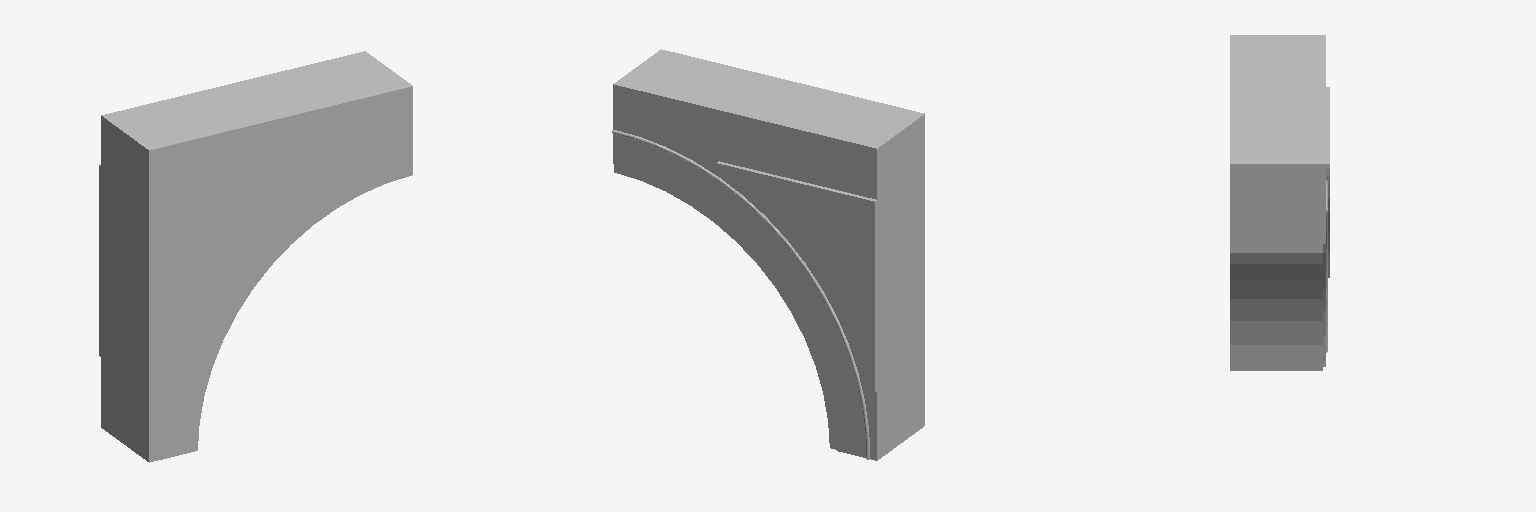
File: arch.obj
The picture shows the model from 3 angles: view 1: azimuth 30°, elevation 25°; view 2: azimuth 150°, elevation 25°; view 3: azimuth 270°, elevation 25°; orthographic projection.
Parts seen in each view (by area): view 1: Library_Arch_Library_Arch.001; view 2: Library_Arch_Library_Arch.001; view 3: Library_Arch_Library_Arch.001.
Part boxes in pixels (x1,y1,x2,y2): Library_Arch_Library_Arch.001: (99,51,412,462); Library_Arch_Library_Arch.001: (612,49,924,460); Library_Arch_Library_Arch.001: (1230,35,1329,370).
Bounding box in the file's own units: 2.5 × 2.82 × 0.8262.